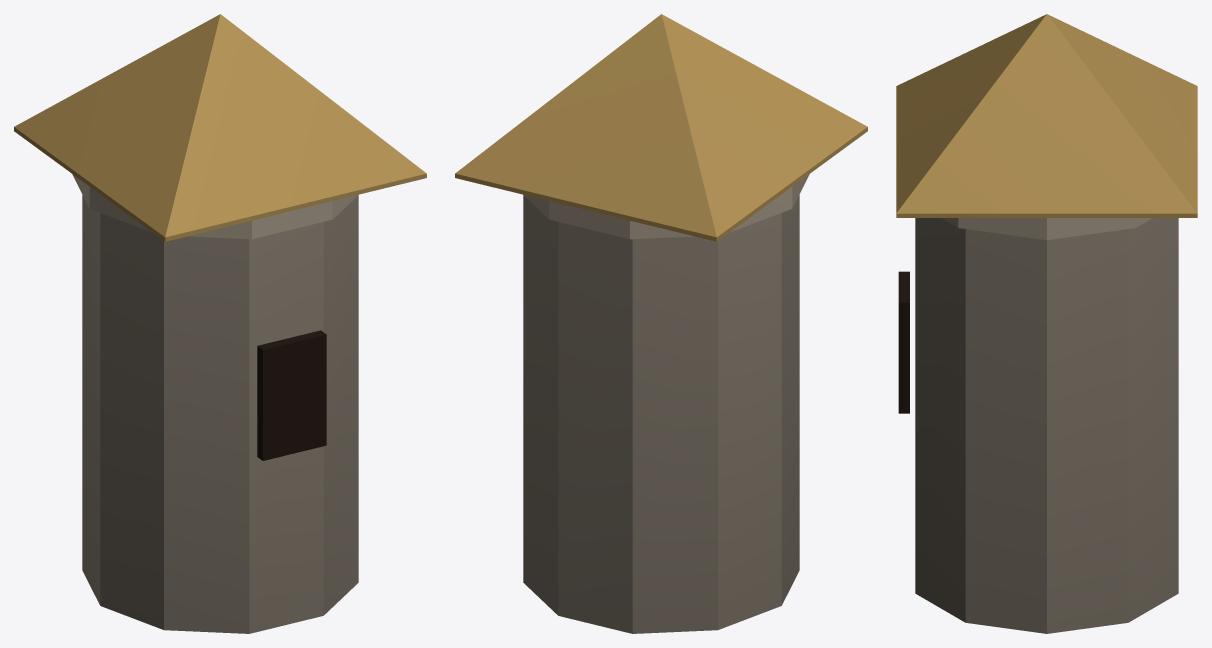
Rendered from wari_tower_lod0.glb.
3 views of the same model, side by side, from view 1: azimuth 30°, elevation 25°; view 2: azimuth 150°, elevation 25°; view 3: azimuth 270°, elevation 25° (orthographic).
Parts seen in each view (by area): view 1: GEO-Arch_wari_tower_LOD0; view 2: GEO-Arch_wari_tower_LOD0; view 3: GEO-Arch_wari_tower_LOD0.
Boxes of the visible parts, x1,y1,x2,y2 form: GEO-Arch_wari_tower_LOD0: [14, 14, 426, 633]; GEO-Arch_wari_tower_LOD0: [455, 14, 867, 633]; GEO-Arch_wari_tower_LOD0: [896, 14, 1197, 633].
Bounding box in the file's own units: 3.7 × 7.6 × 3.7.
